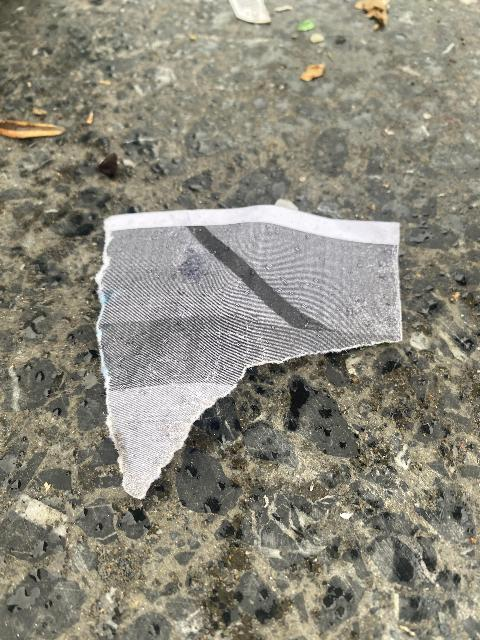Kagit: (84, 173, 425, 500), (202, 0, 398, 89)
Organik: (0, 100, 110, 149)
